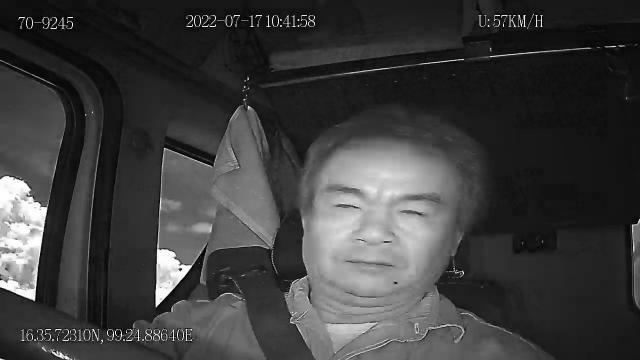SafeDriving: (389, 195, 442, 224)
Seatbelt: (225, 274, 317, 360)
